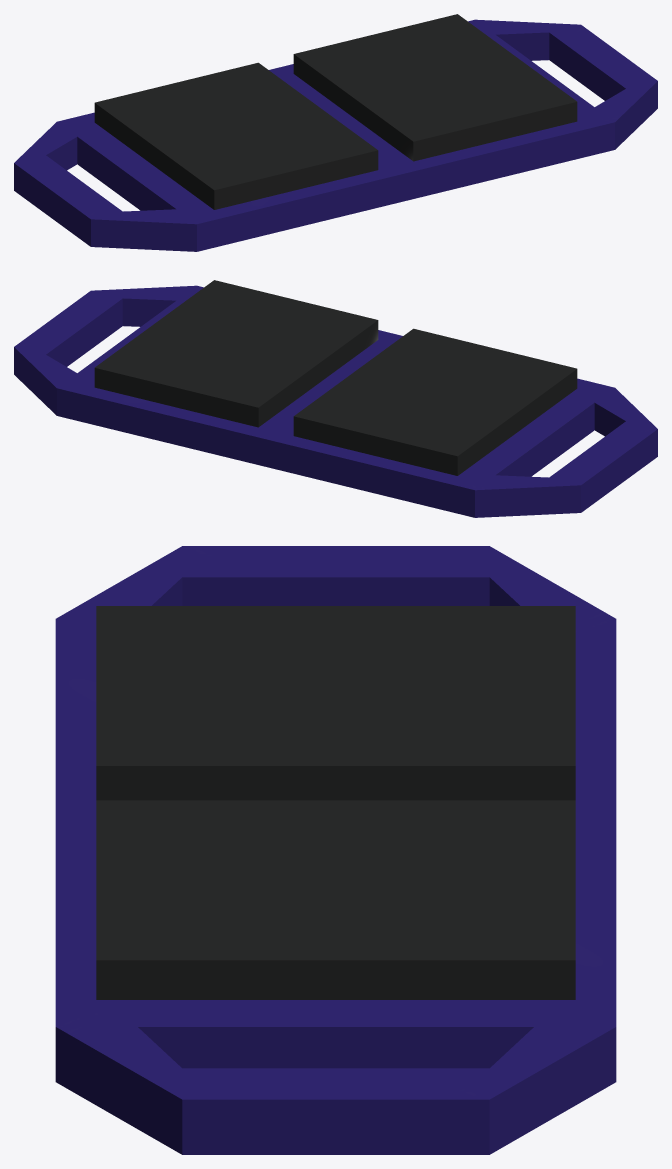
Rendered from Magnet.fbx.
3 views of the same model, one above another, from view 1: azimuth 30°, elevation 25°; view 2: azimuth 150°, elevation 25°; view 3: azimuth 270°, elevation 25° (orthographic). The views are drawn at different scales.
Parts seen in each view (by area): view 1: Cube; view 2: Cube; view 3: Cube.
Part boxes in pixels (x1,y1,x2,y2): Cube: [14, 14, 657, 251]; Cube: [14, 280, 657, 517]; Cube: [55, 546, 616, 1154].
Bounding box in the file's own units: 285 × 22.77 × 122.
